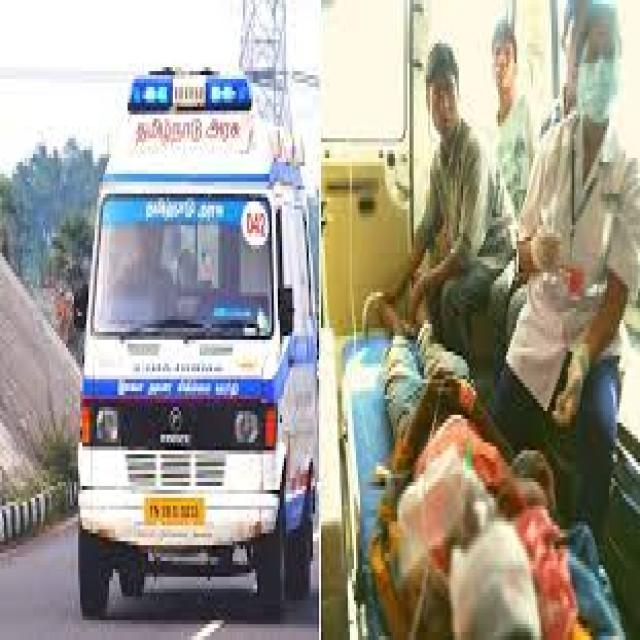Ambulance: (74, 71, 313, 640)
